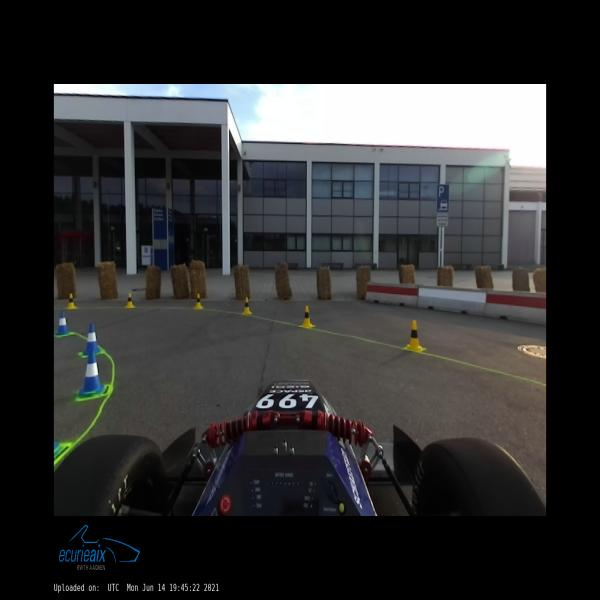blue_cone: (79, 349, 104, 397), (83, 324, 100, 355), (56, 311, 70, 335)
yellow_cone: (406, 320, 422, 350), (301, 305, 312, 327), (243, 297, 251, 314), (194, 293, 203, 308), (67, 294, 76, 308), (126, 294, 134, 308)
